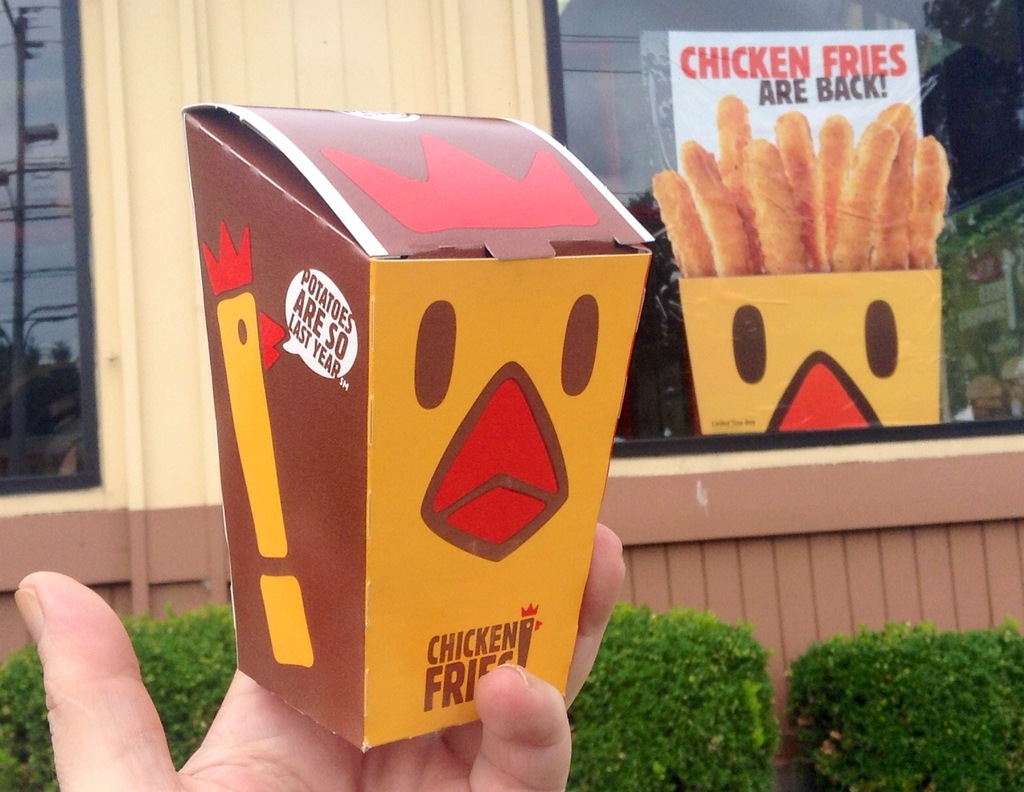French fries: (644, 77, 963, 263)
